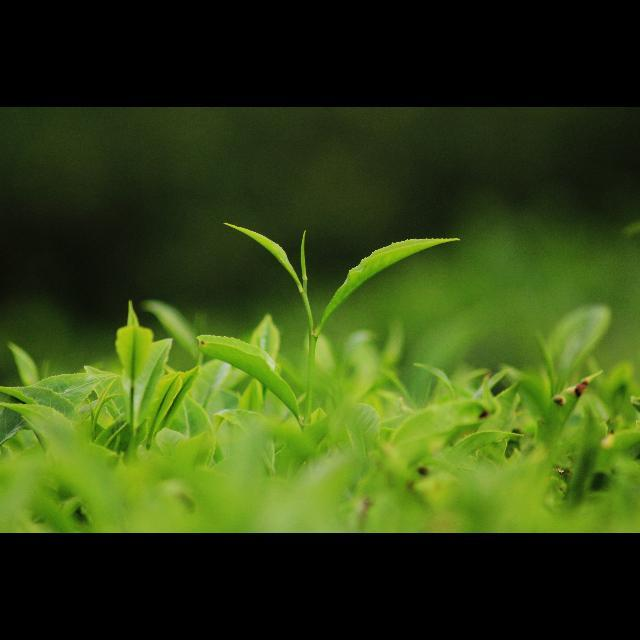Stem: (309, 334, 317, 345)
